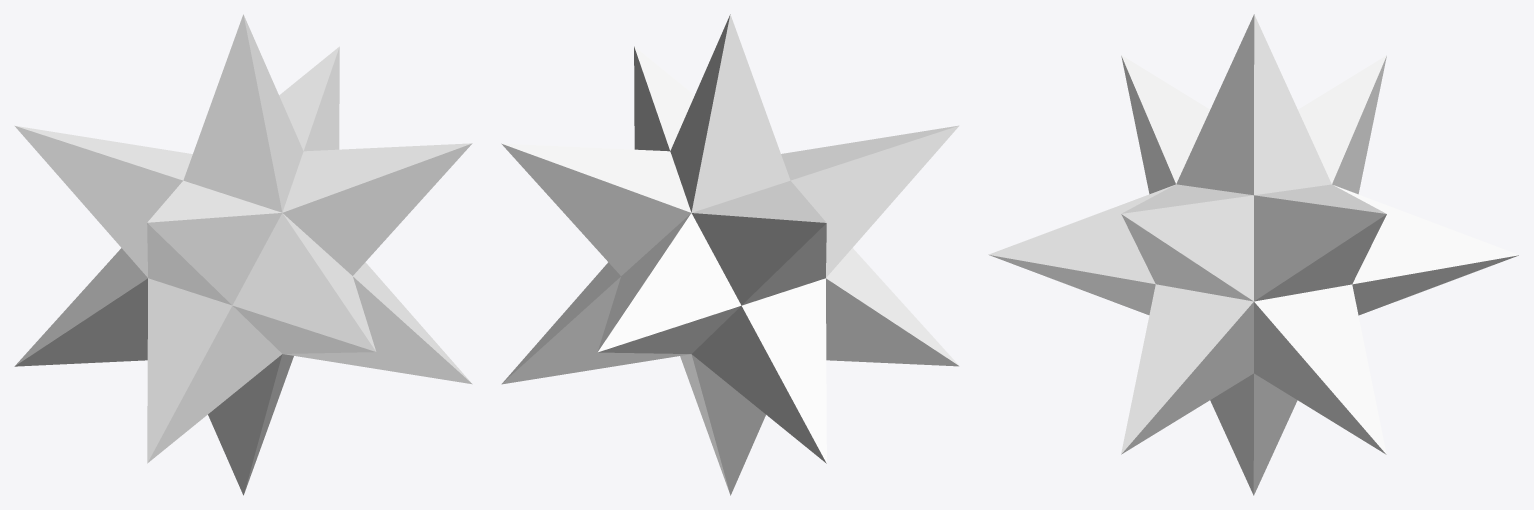
The model's file is great-rhombihexacron.gltf.
The picture shows the model from 3 angles, left to right: view 1: azimuth 30°, elevation 25°; view 2: azimuth 150°, elevation 25°; view 3: azimuth 270°, elevation 25°; orthographic projection.
Visible parts, largest first — view 1: Mesh; view 2: Mesh; view 3: Mesh.
Boxes of the visible parts, x1,y1,x2,y2 form: Mesh: [14, 14, 472, 495]; Mesh: [501, 14, 959, 495]; Mesh: [988, 14, 1519, 495].
Bounding box in the file's own units: 3.7 × 5.23 × 5.23.
Materials: 1 (1 with a texture image).
